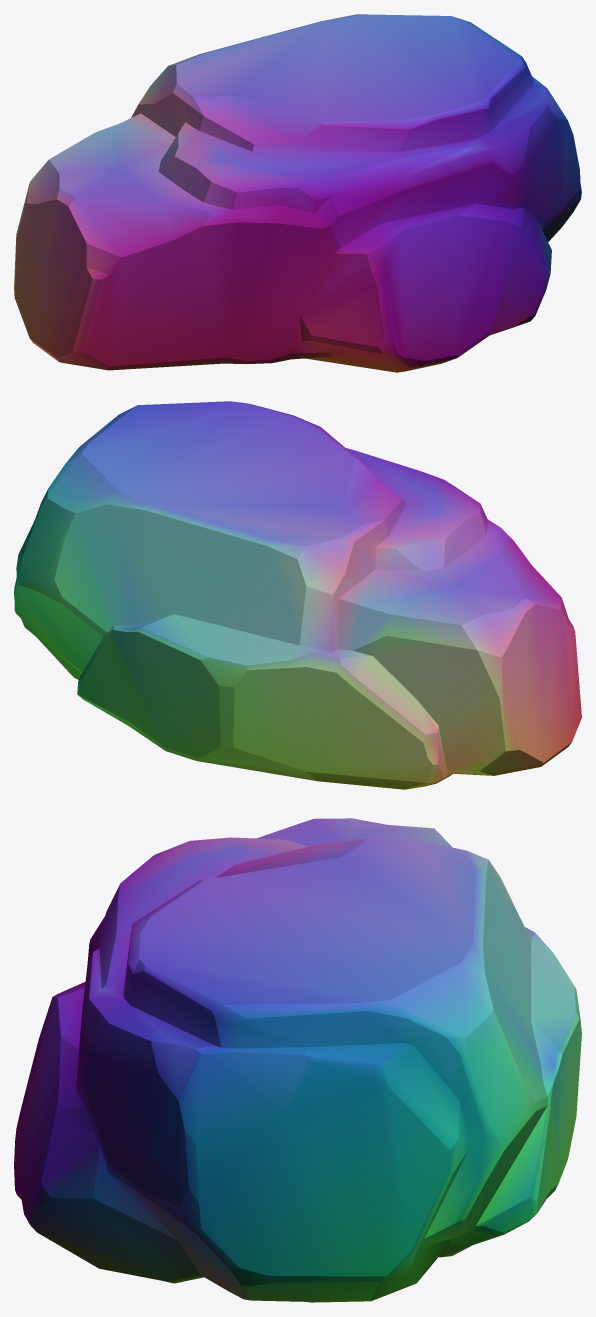
3 renders of one model, top to bottom at view 1: azimuth 30°, elevation 25°; view 2: azimuth 150°, elevation 25°; view 3: azimuth 270°, elevation 25°, orthographic. The views are drawn at different scales.
Visible parts, largest first — view 1: st_gc_028_lod0; view 2: st_gc_028_lod0; view 3: st_gc_028_lod0.
Part boxes in pixels (x1,y1,x2,y2): st_gc_028_lod0: (14,14,581,372); st_gc_028_lod0: (14,401,581,789); st_gc_028_lod0: (14,818,581,1302).
Size of what is drawn, in the model's own units: 689 by 296 by 502.
